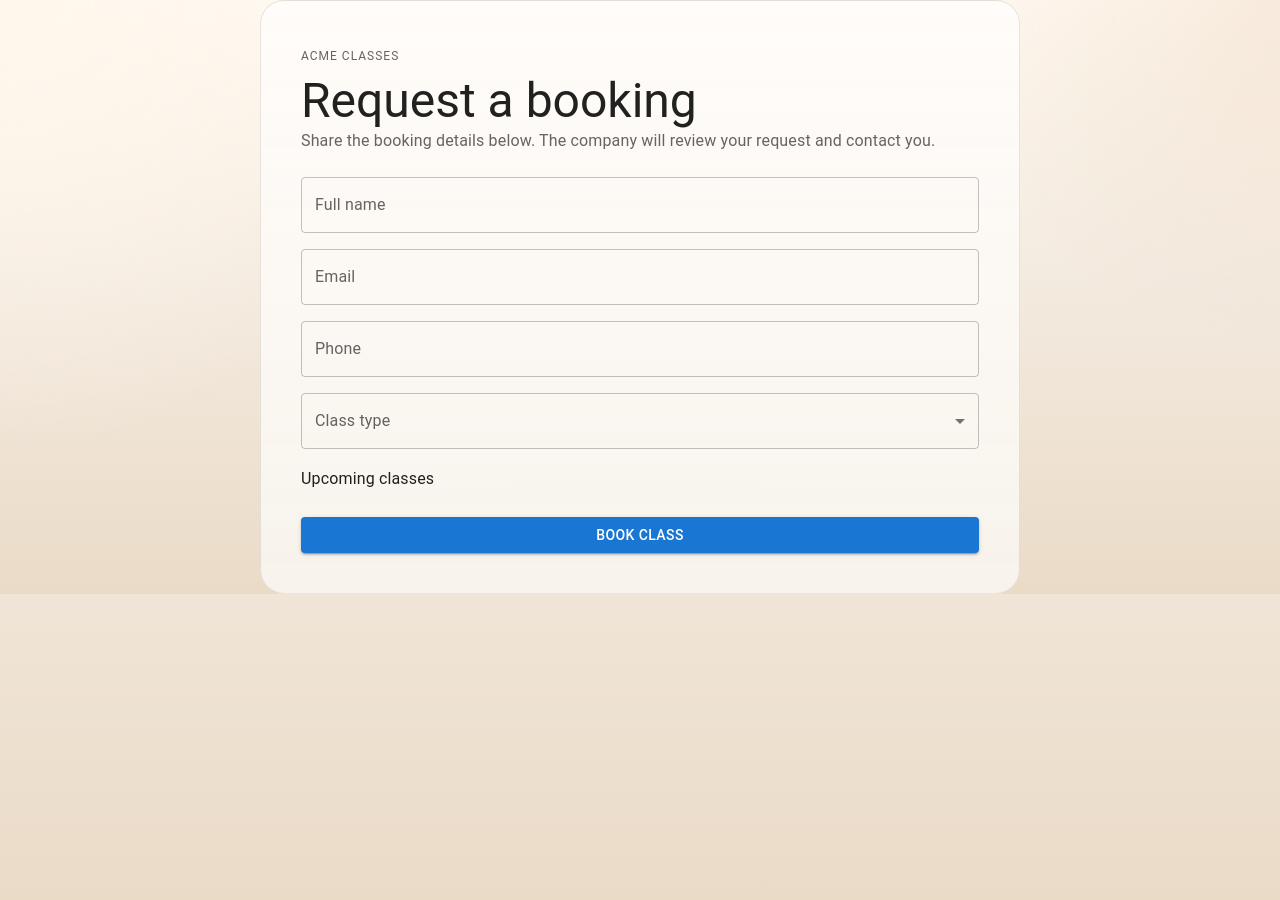
PublicBookingPage › renders class booking availability and submits a valid class booking
Expected: the heading "Request a booking" is shown, [301,72,697,129]
Type "Alex Guest" into the field labelled "Full name" at {"x": 640, "y": 205}, box [301,177,979,233]
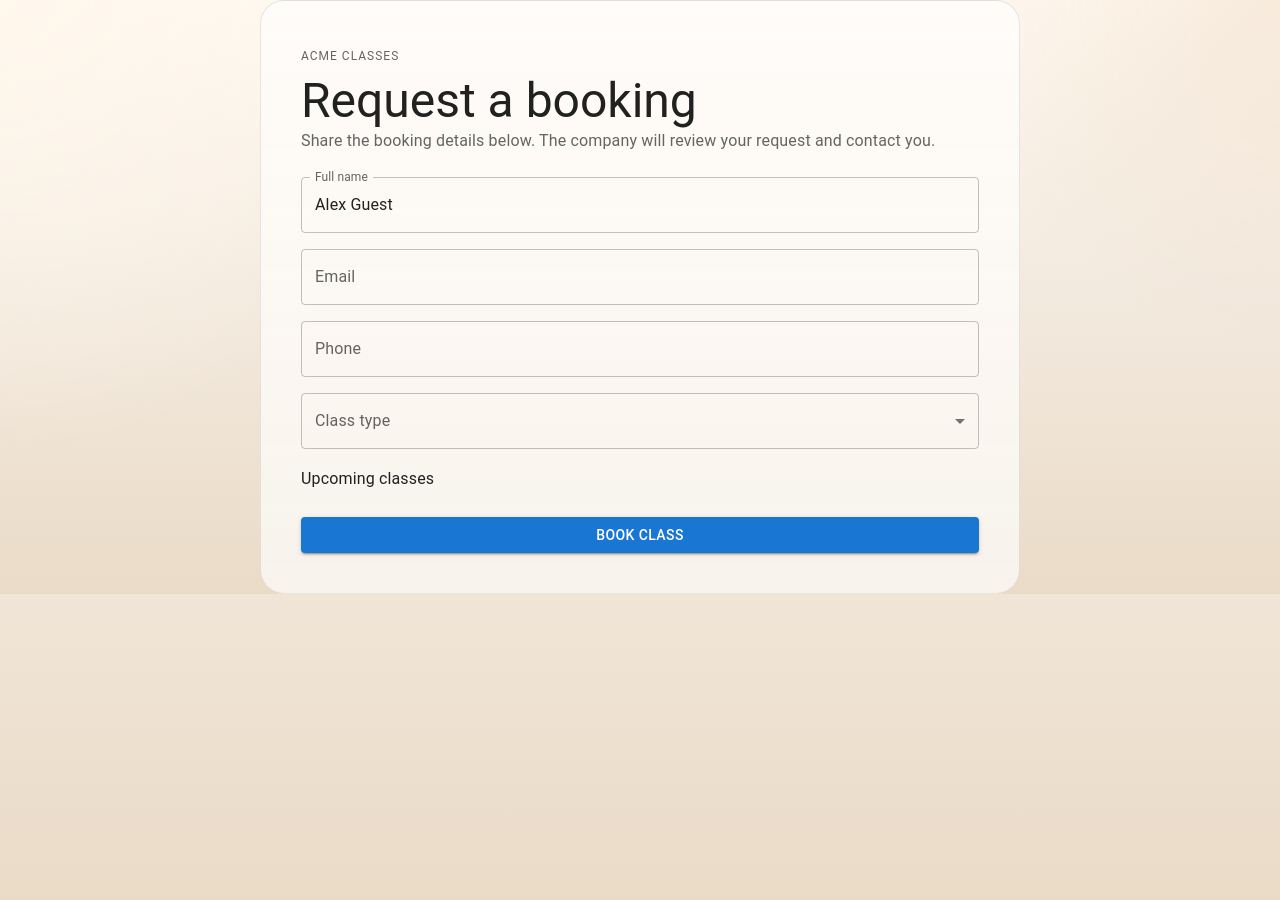
Type "alex@example.com" into the field labelled "Email" at {"x": 640, "y": 277}, box [301,249,979,305]
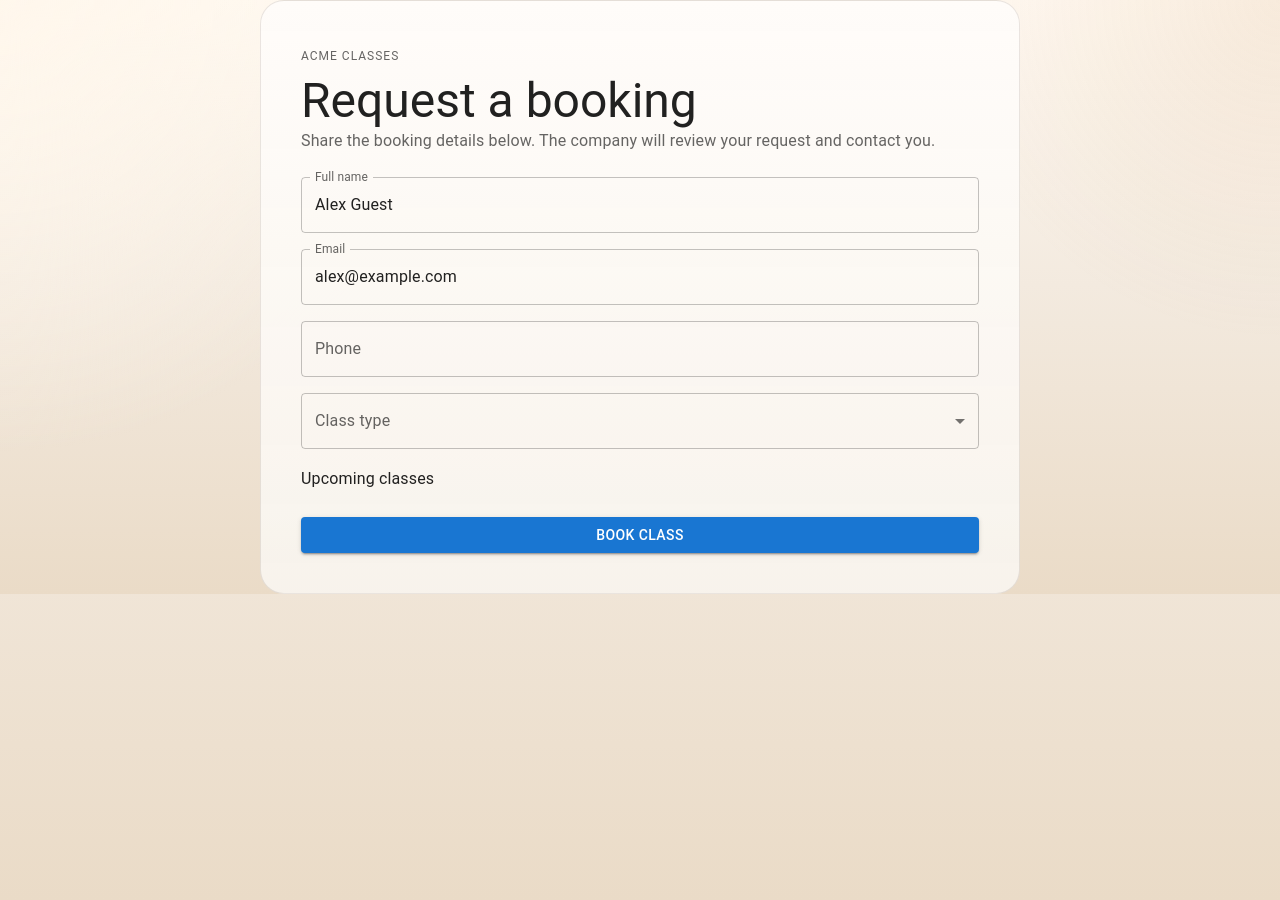
Select "Morning Yoga (60 min)" in the dropdown labelled "Class type" at {"x": 640, "y": 421}, box [301,393,979,449]
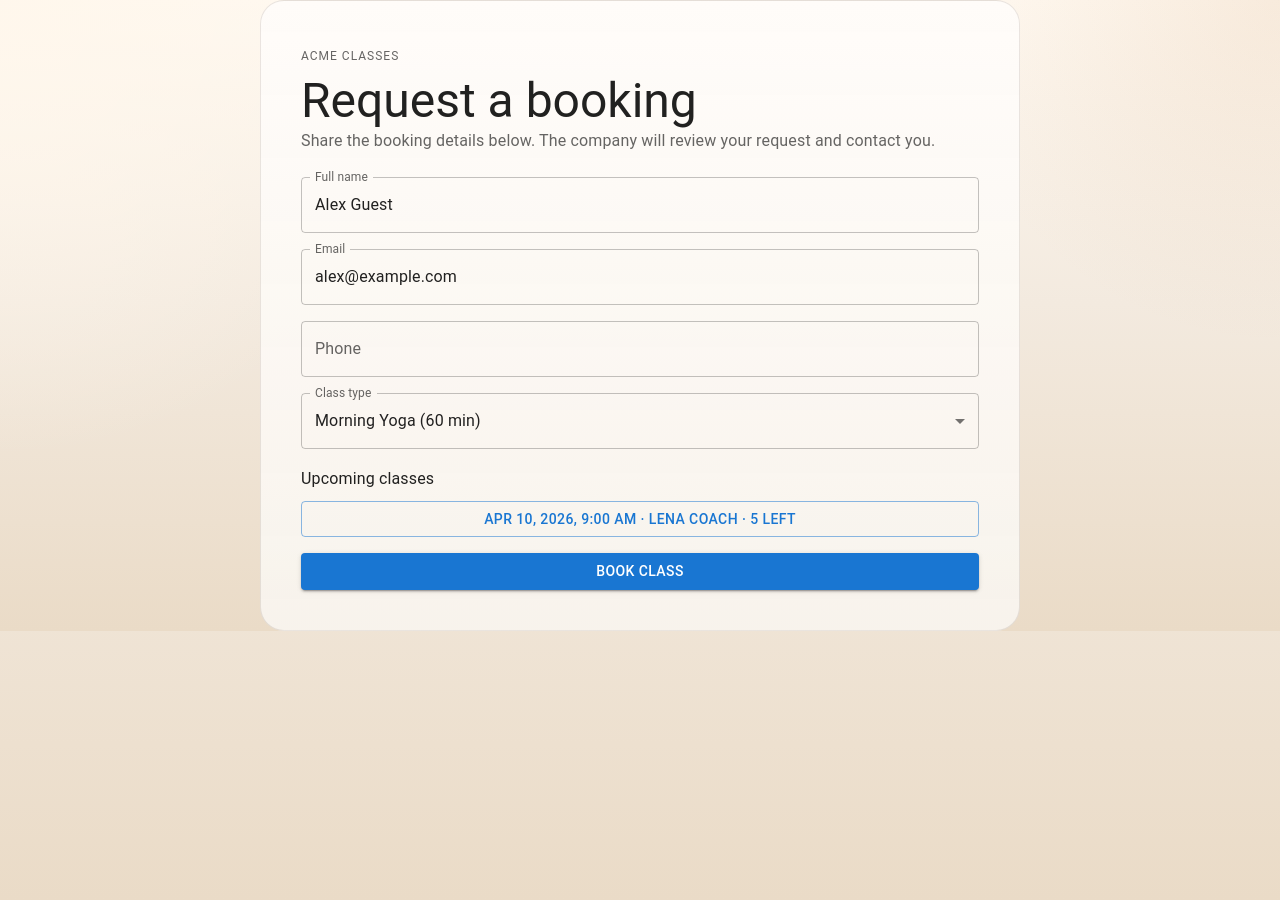
Expected: the button "Apr 10, 2026, 9:00 AM · Lena Coach · 5 left" is shown
Click the button "Apr 10, 2026, 9:00 AM · Lena Coach · 5 left" at {"x": 640, "y": 519}, box [301,501,979,537]
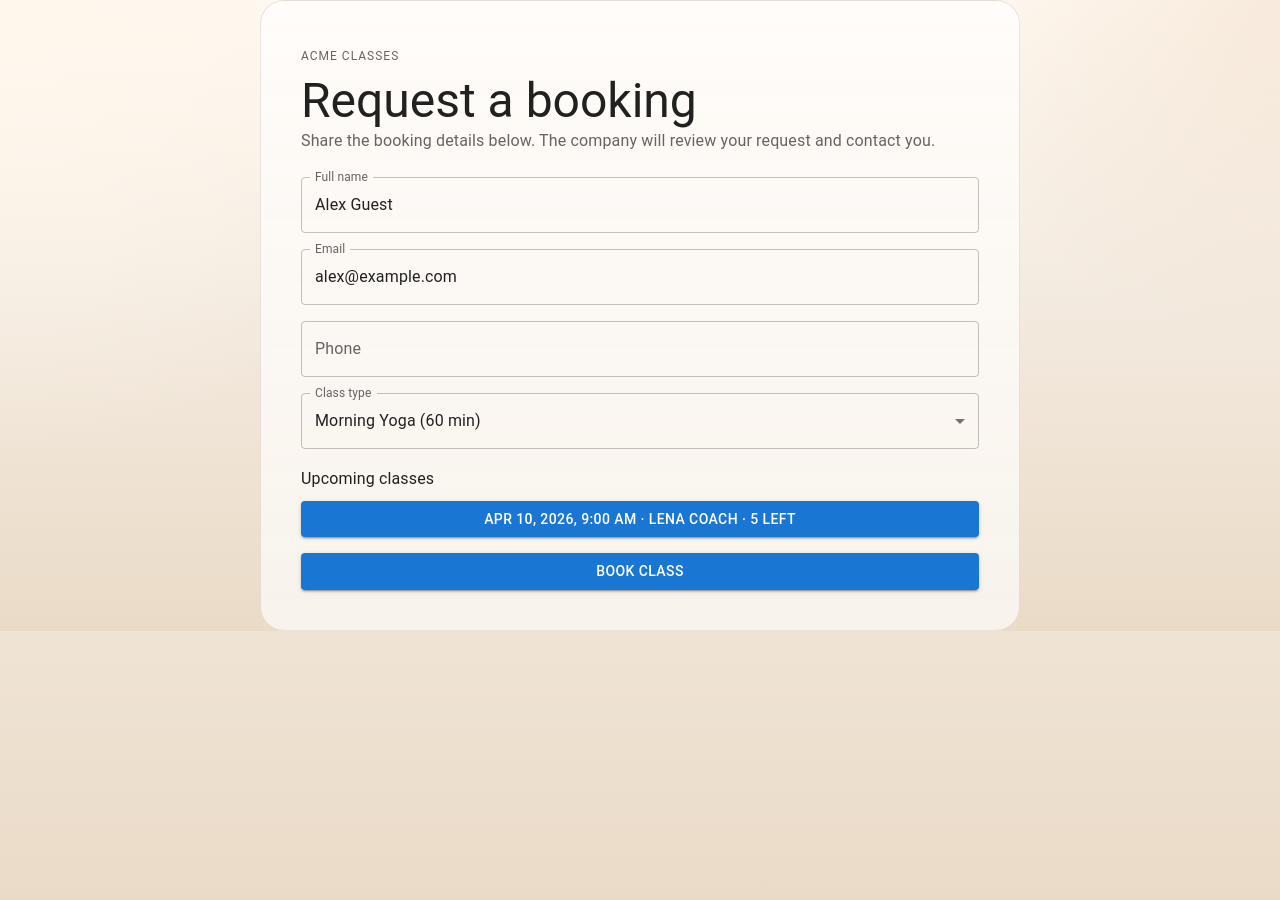
Click the button "Book class" at {"x": 640, "y": 572}, box [301,553,979,590]
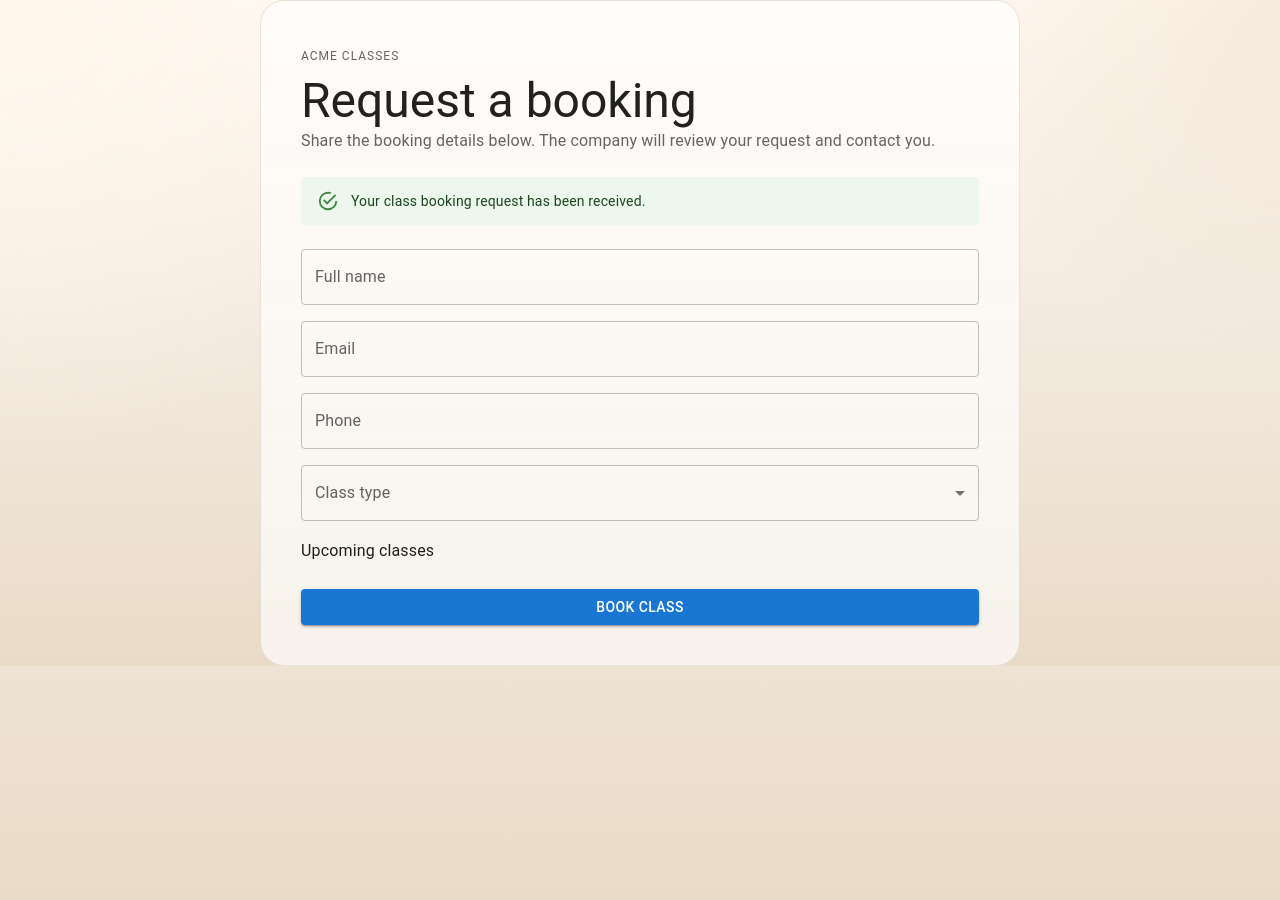
Expected: the text "Your class booking request has been received." is shown, [351,193,646,209]
